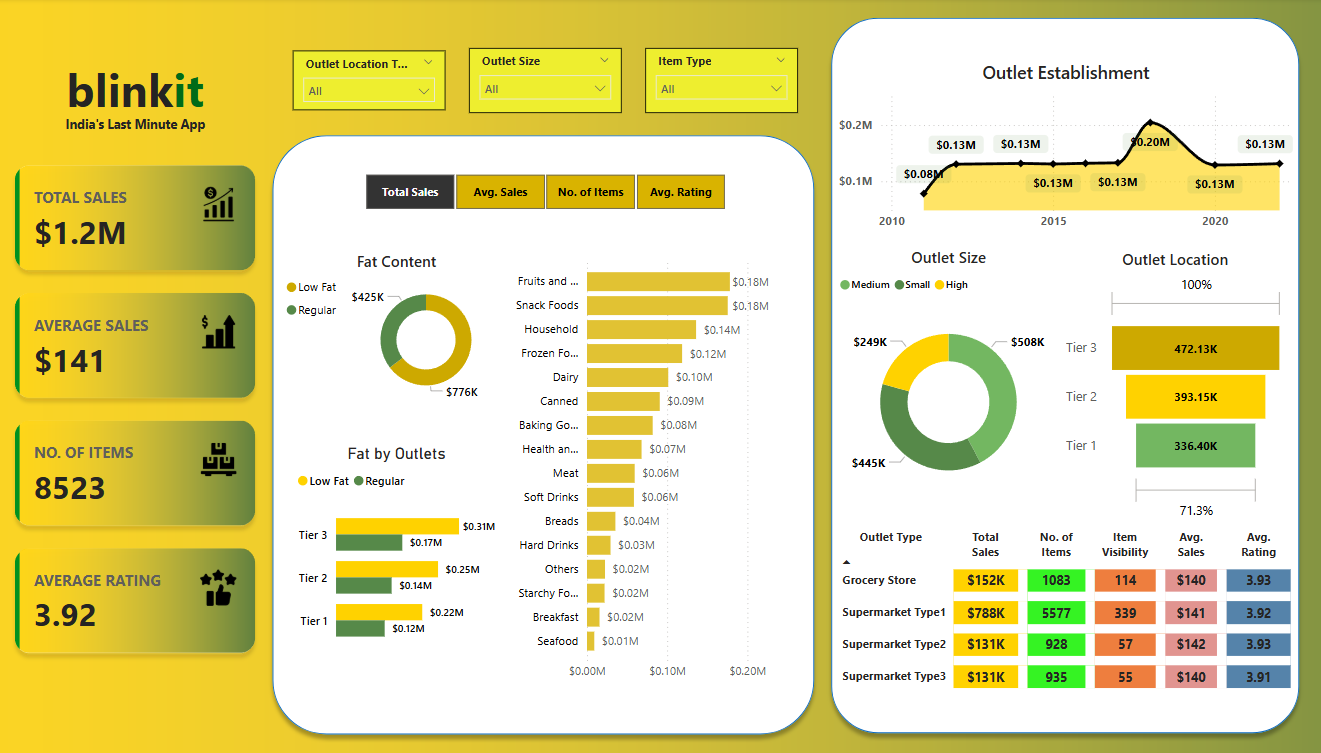

This screenshot's page, from the dashboard's own definition file:
{"tool":"powerbi","page":{"name":"Page 1","canvas":[1400,800],"ordinal":0},"visuals":[{"type":"textbox","box":[38.4,58.2,211.6,76.7],"z":0},{"type":"textbox","box":[38.4,119,211.6,30.4],"z":1000},{"type":"cardVisual","fields":{"Data":["BlinkIT Grocery Data.Total Sales","BlinkIT Grocery Data.Average Sales","BlinkIT Grocery Data.Number of Items","BlinkIT Grocery Data.Average Rating"]},"box":[0,160.1,288.4,550.3],"z":2000},{"type":"shape","box":[280.4,136.2,591.3,652.1],"z":3000},{"type":"slicer","fields":{"Values":["Metrics.Metrics"]},"box":[362.4,179.9,429.9,50.3],"z":4000},{"type":"donutChart","title":"Fat Content","fields":{"Y":["BlinkIT Grocery Data.Total Sales"],"Category":["BlinkIT Grocery Data.Item Fat Content"]},"box":[298.9,267.2,243.4,168],"z":5000},{"type":"barChart","title":"ITEM TYPE","fields":{"Y":["BlinkIT Grocery Data.Total Sales"],"Category":["BlinkIT Grocery Data.Item Type"]},"box":[530.4,267.2,314.8,463],"z":6000},{"type":"clusteredBarChart","title":"Fat by Outlets","fields":{"Y":["BlinkIT Grocery Data.Total Sales"],"Category":["BlinkIT Grocery Data.Outlet Location Type"],"Series":["BlinkIT Grocery Data.Item Fat Content"]},"box":[310.8,472.2,219.6,228.8],"z":7000},{"type":"shape","box":[871.7,11.9,513.2,775.1],"z":8000},{"type":"lineChart","title":"Outlet Establishment","fields":{"Y":["BlinkIT Grocery Data.Total Sales"],"Category":["BlinkIT Grocery Data.Outlet Establishment Year"]},"box":[883.6,66.1,490.7,187.8],"z":9000},{"type":"donutChart","title":"Outlet Size","fields":{"Y":["BlinkIT Grocery Data.Total Sales"],"Category":["BlinkIT Grocery Data.Outlet Size"]},"box":[884.3,262.9,240,280],"z":10000},{"type":"funnel","title":"Outlet Location","fields":{"Y":["Sum(BlinkIT Grocery Data.Sales)"],"Category":["BlinkIT Grocery Data.Outlet Location Type"]},"box":[1124.3,264.6,240.7,293.7],"z":11000},{"type":"pivotTable","fields":{"Rows":["BlinkIT Grocery Data.Outlet Type"],"Values":["BlinkIT Grocery Data.Total Sales","BlinkIT Grocery Data.Number of Items","Sum(BlinkIT Grocery Data.Item Visibility)","BlinkIT Grocery Data.Average Sales","BlinkIT Grocery Data.Average Rating"]},"box":[875.7,558.2,506.6,202.4],"z":12000},{"type":"slicer","fields":{"Values":["BlinkIT Grocery Data.Outlet Location Type"]},"box":[310.8,55.6,161.4,63.5],"z":13000},{"type":"slicer","fields":{"Values":["BlinkIT Grocery Data.Outlet Size"]},"box":[497.4,52.9,161.4,68.8],"z":14000},{"type":"slicer","fields":{"Values":["BlinkIT Grocery Data.Item Type"]},"box":[683.9,52.9,161.4,68.8],"z":15000}]}

Visuals, with their boxes in screenshot pixels (x1, y1, x2, y2), scaled from the page's 1400x800 canvas onto the 1321x753 screenshot:
textbox: detection(36, 55, 236, 127)
textbox: detection(36, 112, 236, 141)
cardVisual - BlinkIT Grocery Data.Total Sales x BlinkIT Grocery Data.Average Sales: detection(0, 151, 272, 669)
shape: detection(265, 128, 823, 742)
slicer - Metrics.Metrics: detection(342, 169, 748, 217)
"Fat Content" donutChart: detection(282, 252, 512, 410)
"ITEM TYPE" barChart: detection(500, 252, 798, 687)
"Fat by Outlets" clusteredBarChart: detection(293, 444, 500, 660)
shape: detection(823, 11, 1307, 741)
"Outlet Establishment" lineChart: detection(834, 62, 1297, 239)
"Outlet Size" donutChart: detection(834, 247, 1061, 511)
"Outlet Location" funnel: detection(1061, 249, 1288, 525)
pivotTable - BlinkIT Grocery Data.Outlet Type x BlinkIT Grocery Data.Total Sales: detection(826, 525, 1304, 716)
slicer - BlinkIT Grocery Data.Outlet Location Type: detection(293, 52, 446, 112)
slicer - BlinkIT Grocery Data.Outlet Size: detection(469, 50, 622, 115)
slicer - BlinkIT Grocery Data.Item Type: detection(645, 50, 798, 115)
